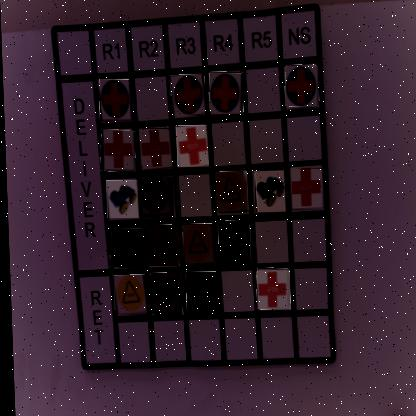OrderBlue: (171, 76, 207, 118), (285, 66, 320, 108), (209, 73, 244, 114), (99, 81, 132, 123), (142, 179, 175, 221)
OrderGurney: (217, 222, 251, 268), (147, 274, 183, 317), (254, 172, 286, 214), (185, 273, 217, 315), (105, 181, 139, 220)
OrderRed: (255, 269, 291, 312), (101, 130, 136, 174), (176, 126, 210, 169), (291, 169, 324, 211), (137, 129, 172, 167)
OrderYellow: (181, 225, 215, 269), (144, 226, 179, 268), (215, 172, 249, 215), (109, 230, 144, 270), (112, 276, 146, 317)
